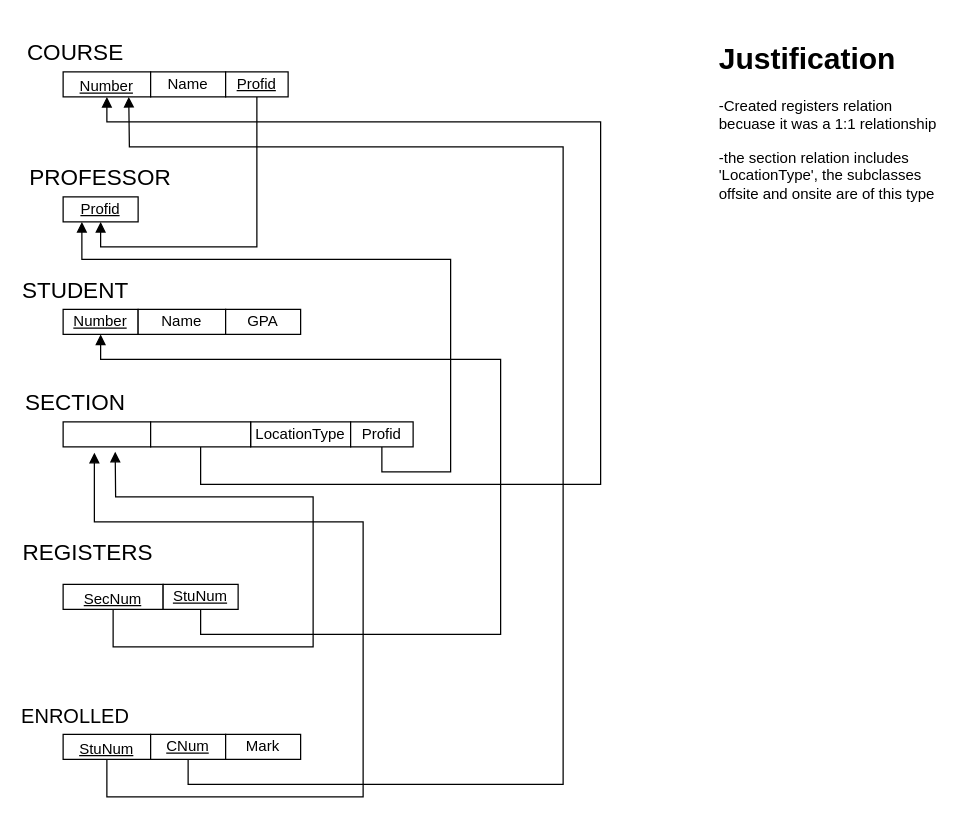
This 971x829 diagram has some shape labels left out. The shapes that lost their labels are listed below. From the top down, each one's centre as x and y in pixels, then its label:
the point at 106,434: SecNumber
the point at 200,434: CNumber
